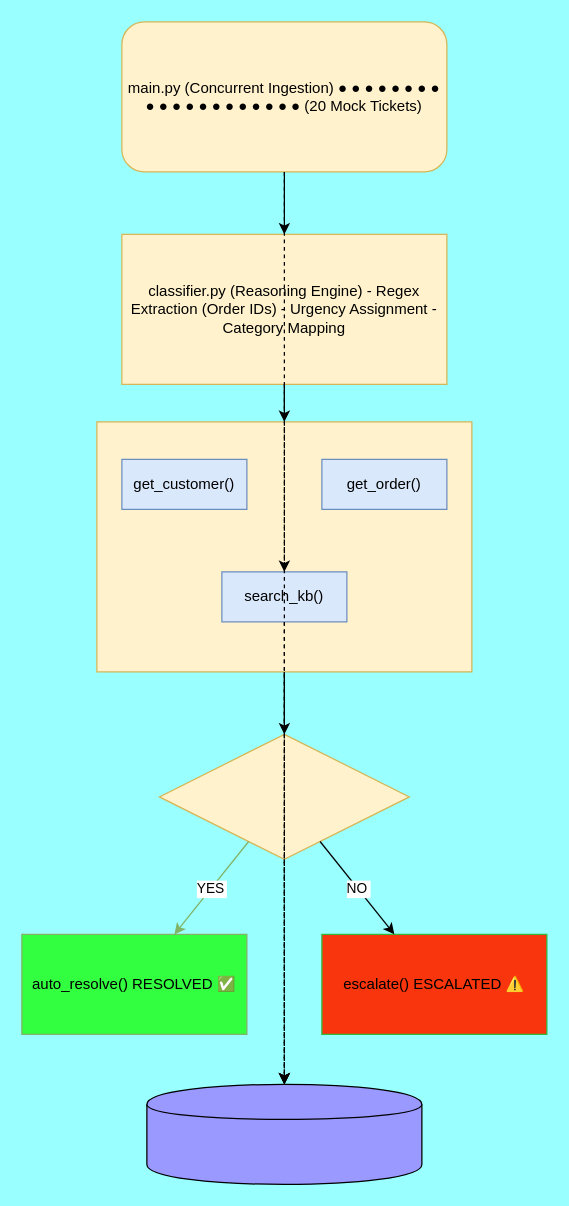
The diagram is 569 pixels wide and 1206 high, and some of its shapes have lost their labels. Here are the shapes that lost their labels. From the top down, the box of each, then its label:
(96, 421, 472, 672): orchestrator.py (Tool Reasoning Chain)
(158, 733, 409, 859): Confidence Calibration
(146, 1083, 422, 1184): audit_log.json
